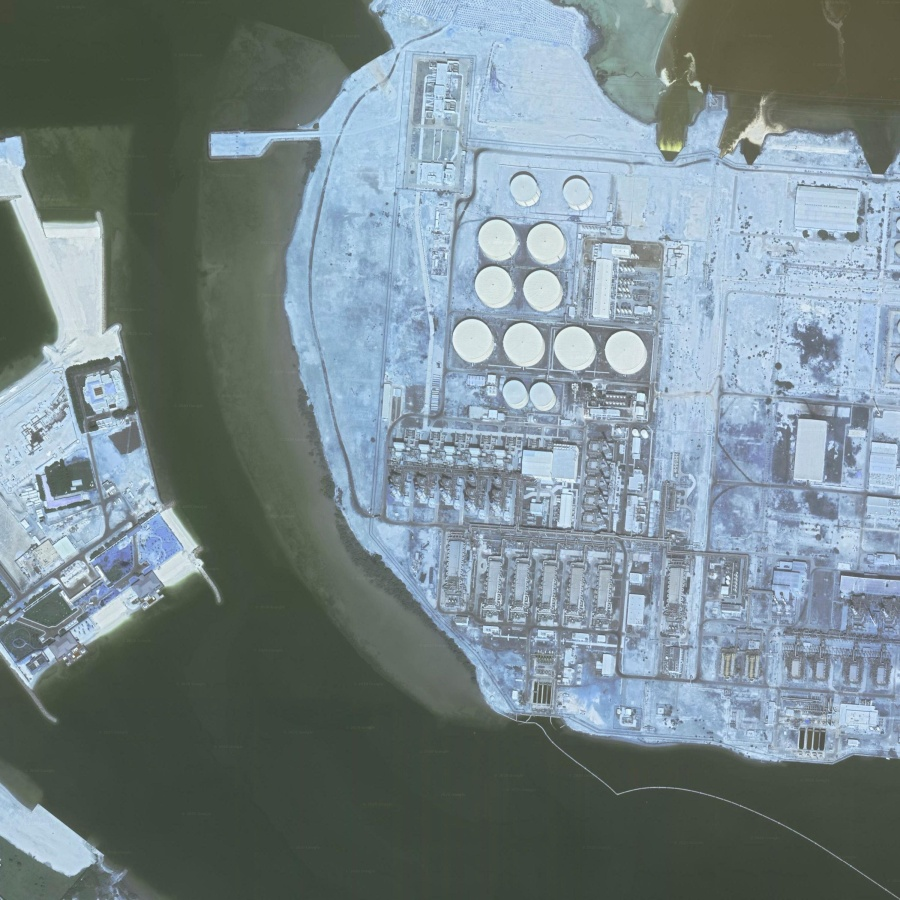PowerPlant: (380, 159, 680, 548)
